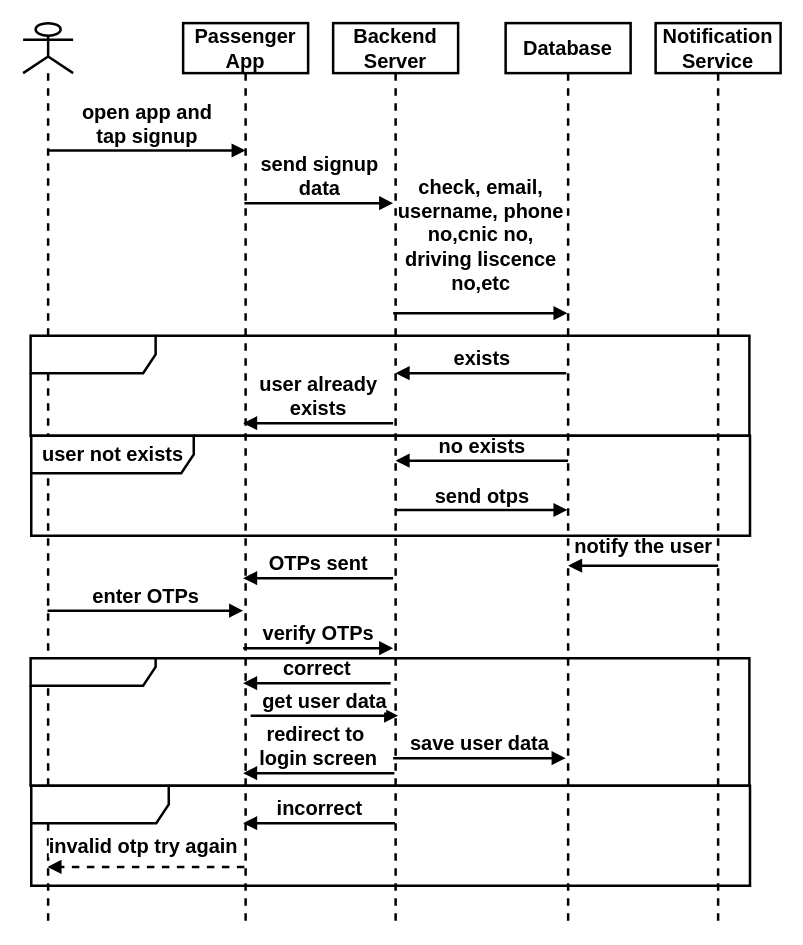
The diagram is 803 pixels wide and 945 high, and some of its shapes have lost their labels. Each missing label, with the box of its shape:
correct otp: (29, 656, 750, 786)
incorrect otp: (29, 784, 751, 886)
user exists: (29, 334, 750, 436)
